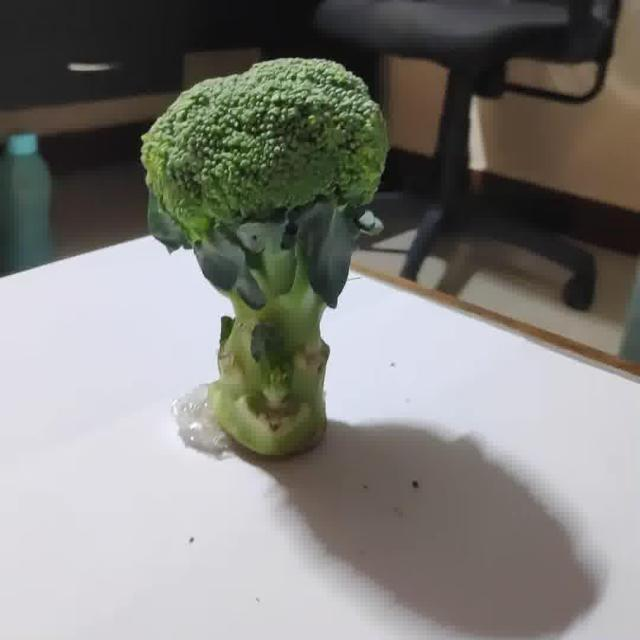Broccoli: (142, 59, 388, 456)
